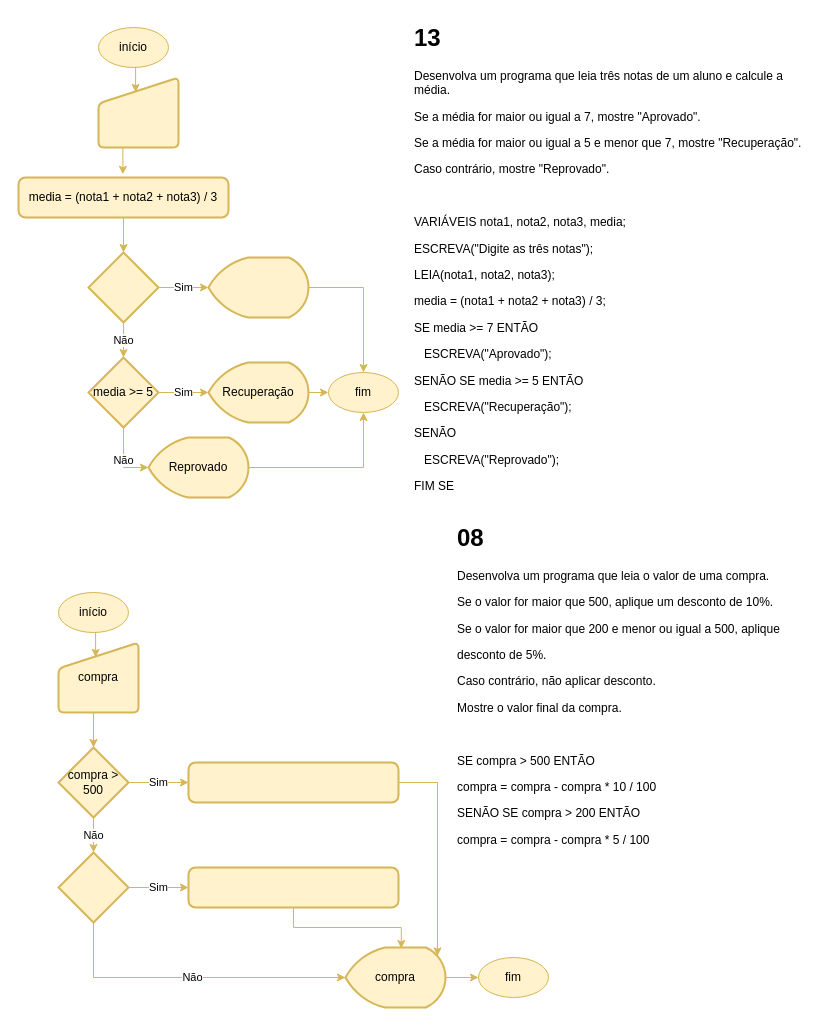
Some shapes in this 825 by 1025 pixel diagram are drawn without their labels. Here are the shapes that lost their labels. From the top down, the centre of each, then its label:
At (x=138, y=112): "nota1, nota2, nota3".
At (x=123, y=287): "media >= 7".
At (x=258, y=287): "Aprovado".
At (x=293, y=782): "compra = compra - compra * 10 / 100".
At (x=93, y=887): "compra>200".
At (x=293, y=887): "compra = compra - compra * 5 / 100".
